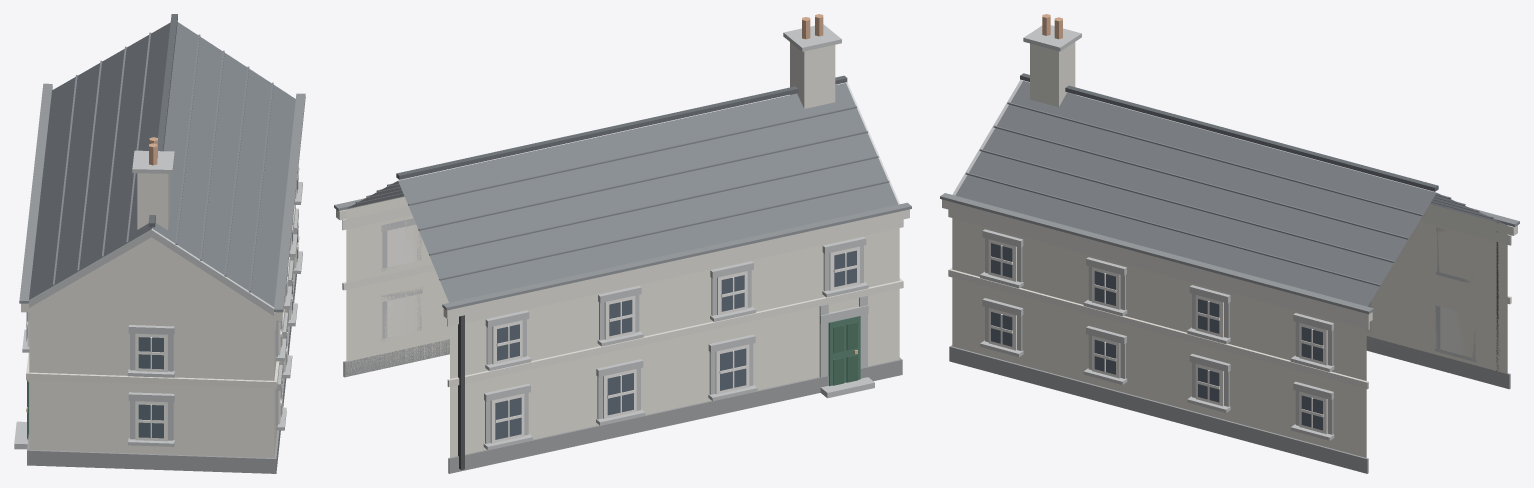
3 views of the same model, side by side, from view 1: azimuth 30°, elevation 25°; view 2: azimuth 150°, elevation 25°; view 3: azimuth 270°, elevation 25° (orthographic). The views are drawn at different scales.
Visible parts, largest first — view 1: slate, harl_cream, stone_band, lead, plinth, slate_lt, string, frame, chim_render, slate_dk, window_glass_008, window_glass_009; view 2: slate, harl_cream, string, stone_band, plinth, frame, slate_lt, lead, slate_dk, chim_render, door_green_p, pipe (+8 smaller); view 3: slate, harl_cream, string, stone_band, plinth, frame, slate_lt, lead, slate_dk, chim_render.
Part boxes in pixels (box(x1,y1,x2,y2)): slate: box(29, 22, 295, 306); harl_cream: box(29, 237, 293, 458); stone_band: box(14, 150, 302, 449); lead: box(19, 83, 305, 312); plinth: box(27, 274, 296, 473); slate_lt: box(53, 32, 273, 292); string: box(21, 89, 298, 388); frame: box(26, 167, 299, 441); chim_render: box(137, 173, 169, 230); slate_dk: box(148, 14, 177, 227); window_glass_008: box(138, 404, 163, 438); window_glass_009: box(138, 337, 163, 369); slate: box(347, 83, 898, 302); harl_cream: box(346, 197, 899, 457); string: box(336, 199, 909, 387); stone_band: box(381, 24, 899, 449); plinth: box(343, 339, 902, 473); frame: box(387, 225, 859, 443); slate_lt: box(355, 106, 889, 280); lead: box(334, 196, 911, 310); slate_dk: box(396, 75, 847, 179); chim_render: box(790, 42, 835, 108); door_green_p: box(833, 322, 857, 385); pipe: box(458, 315, 464, 469); slate: box(955, 81, 1506, 306); harl_cream: box(952, 204, 1507, 457); string: box(942, 199, 1517, 389); stone_band: box(952, 25, 1476, 440); plinth: box(949, 336, 1510, 473); frame: box(988, 239, 1467, 434); slate_lt: box(965, 102, 1493, 286); lead: box(940, 193, 1519, 314); slate_dk: box(1020, 73, 1438, 191); chim_render: box(1030, 42, 1075, 107).
Bounding box in the file's own units: 13.58 × 9.45 × 16.06.
